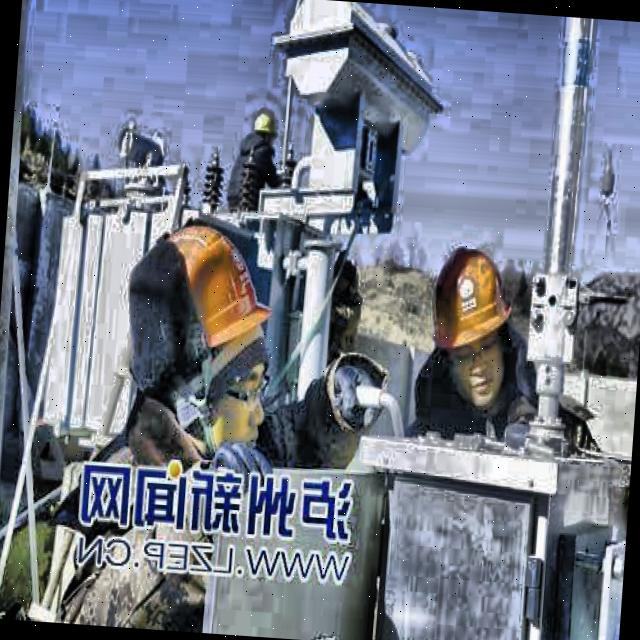helmet: (113, 215, 281, 450), (425, 235, 517, 402), (247, 102, 280, 150)
